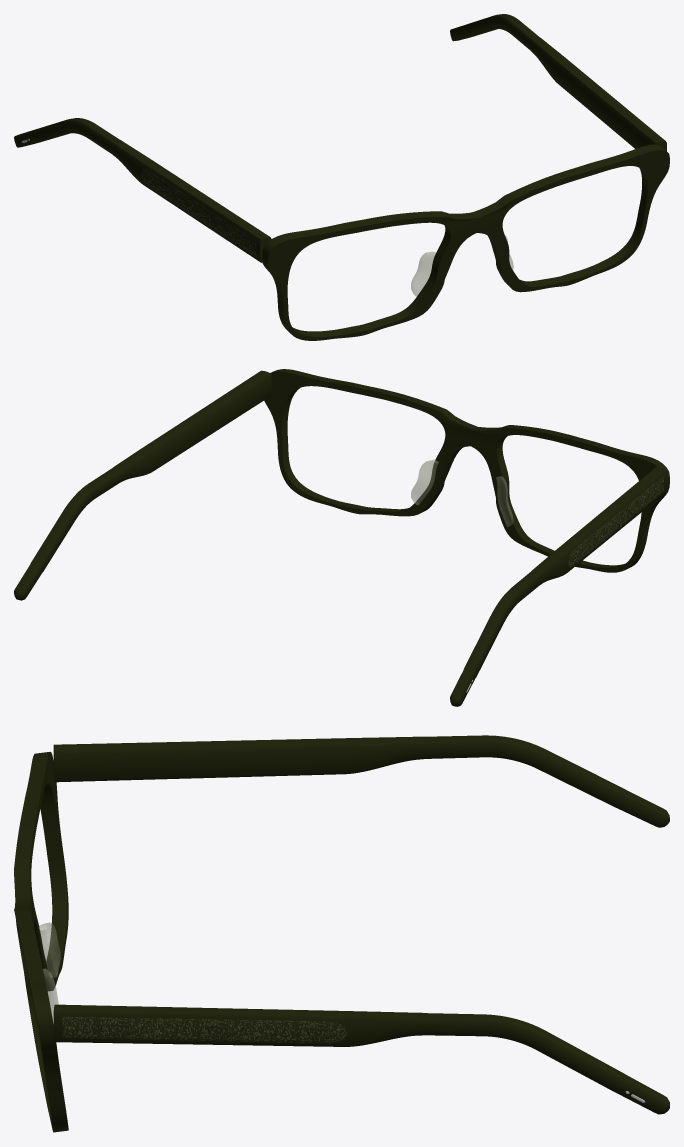
File: trendi-metro-verde-3d.glb
3 renders of one model, top to bottom at view 1: azimuth 30°, elevation 25°; view 2: azimuth 150°, elevation 25°; view 3: azimuth 270°, elevation 25°, orthographic. The views are drawn at different scales.
Visible parts, largest first — view 1: frente, varilla_der, varilla_izq, plaqueta_der; view 2: frente, varilla_izq, varilla_der, plaqueta_izq, plaqueta_der; view 3: varilla_izq, varilla_der, frente, plaqueta_der.
Boxes of the visible parts, x1,y1,x2,y2 form: frente: (262, 144, 669, 340); varilla_der: (14, 118, 271, 262); varilla_izq: (450, 14, 666, 150); plaqueta_der: (411, 251, 435, 296); frente: (264, 369, 669, 572); varilla_izq: (14, 370, 271, 600); varilla_der: (450, 467, 666, 706); plaqueta_izq: (411, 459, 438, 505); plaqueta_der: (496, 476, 513, 526); varilla_izq: (53, 1004, 669, 1114); varilla_der: (53, 735, 669, 827); frente: (14, 752, 68, 1132); plaqueta_der: (39, 922, 60, 977).
Bounding box in the file's own units: 0.1534 × 0.0396 × 0.1451.
5 materials, 1 textured.
